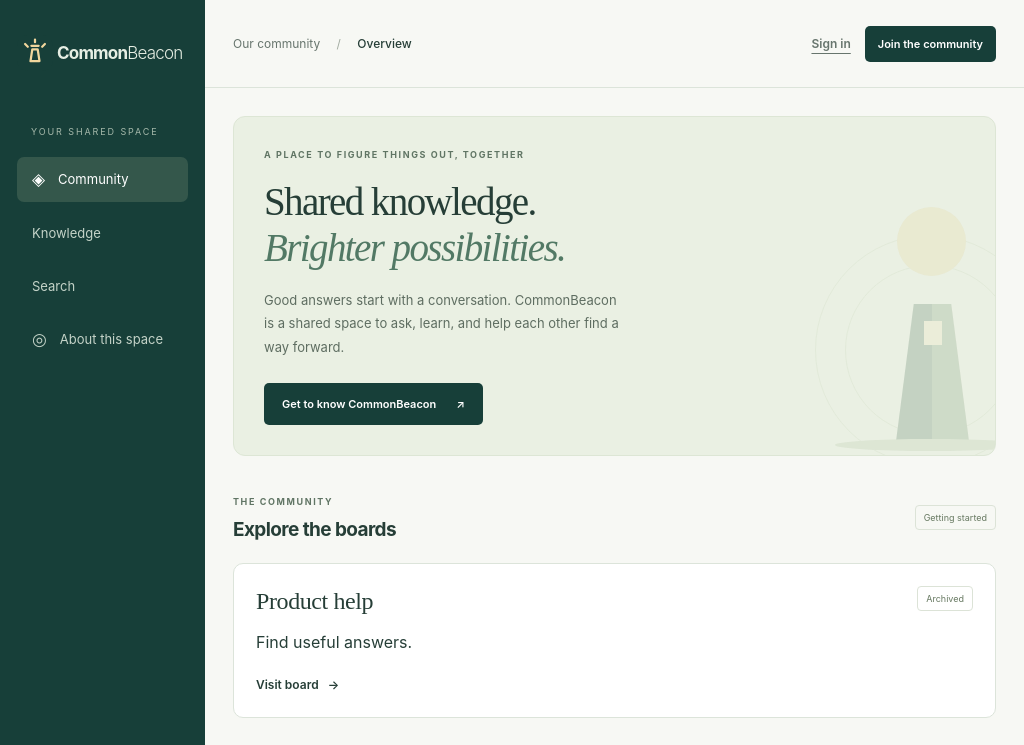
lets an anonymous visitor open an archived board and see its empty state
Click the link "Product help Archived Find useful answers. Visit board →": [315, 601] box [233,563,996,718]
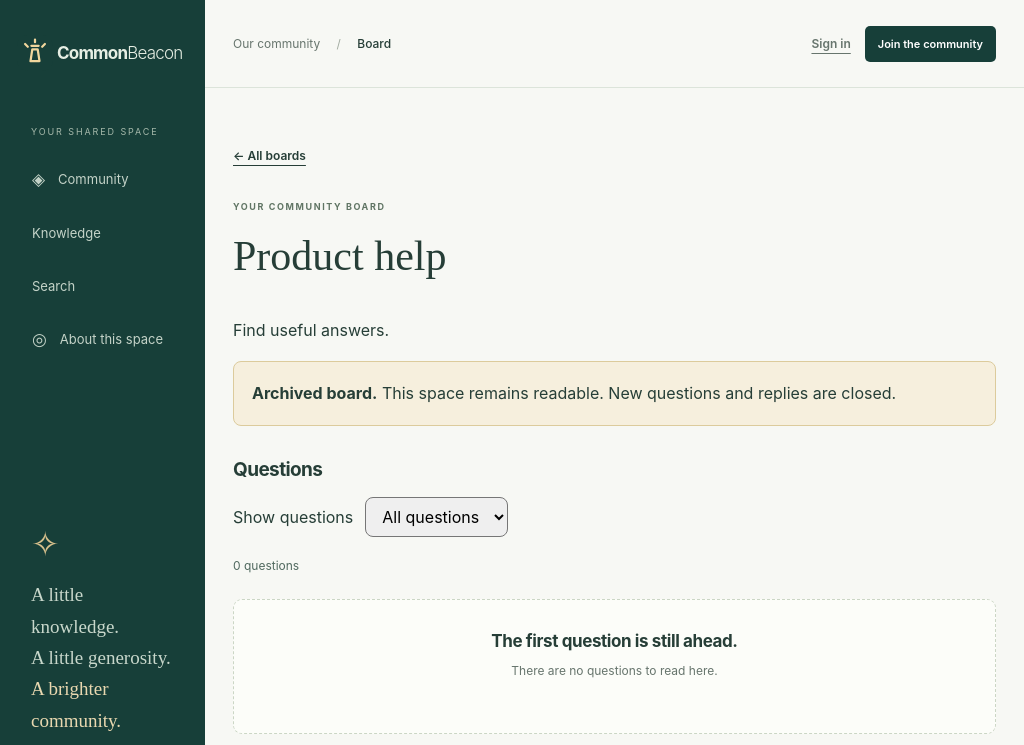
expect the heading "Product help" is shown: met, box [233,233,446,279]
expect the text "Archived board." is shown: met, box [252,383,377,403]
expect the heading "The first question is still ahead." is shown: met, box [491,631,738,651]
